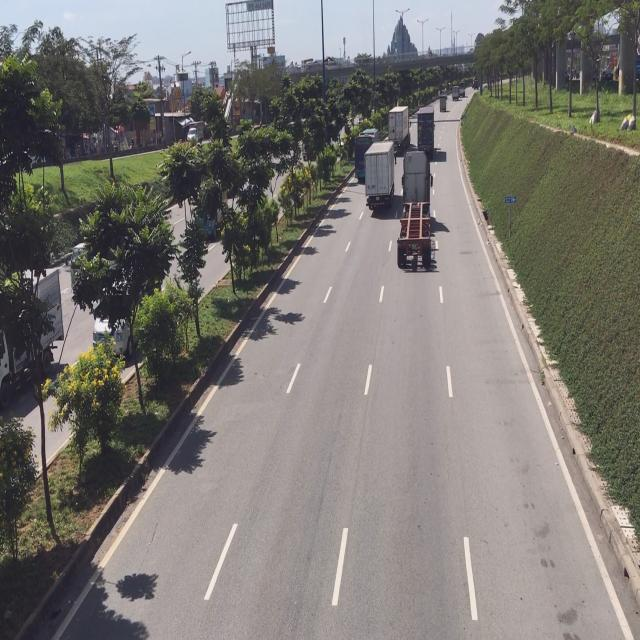bus: (353, 127, 375, 171)
truck: (400, 150, 436, 272), (363, 143, 393, 212), (386, 105, 409, 150), (417, 104, 434, 153)
